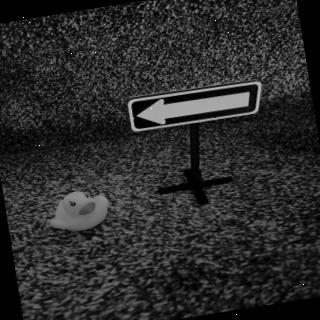duck_regular: (47, 187, 115, 237)
sign_oneway_left: (128, 78, 268, 135)
